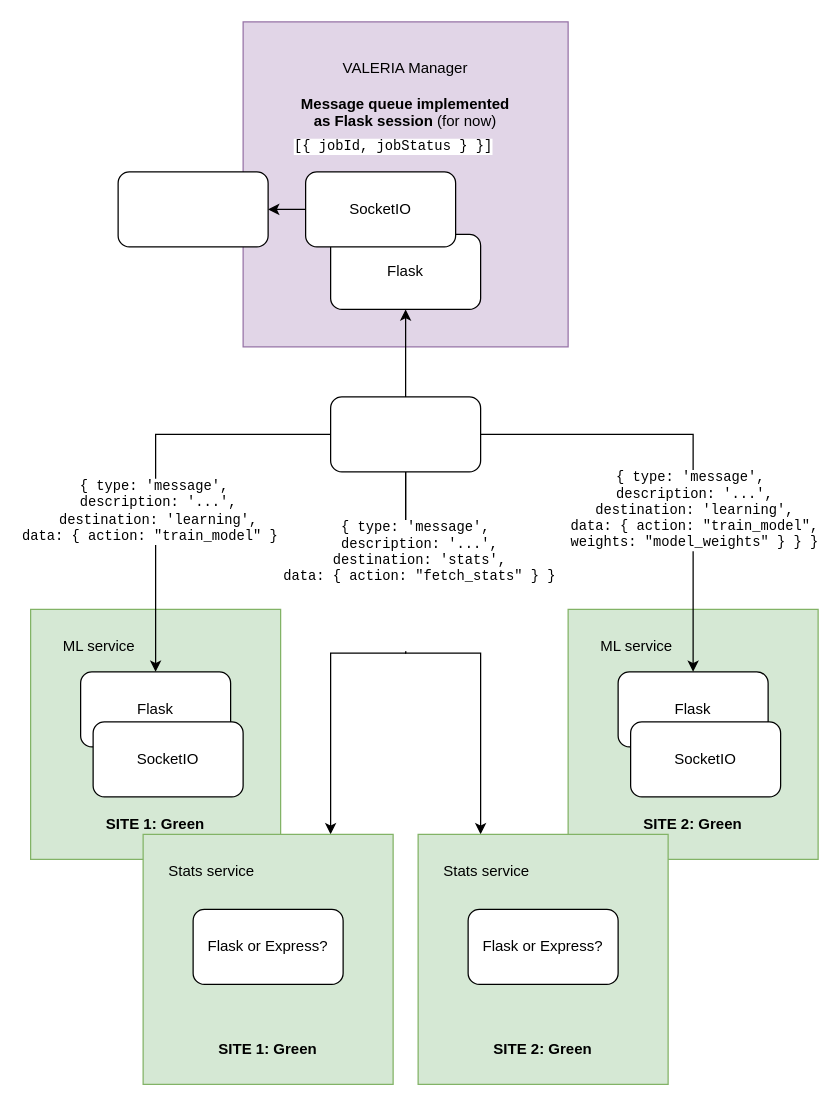
Image size: 840x1106. Some labels were removed from this diagram. The centre of each missing label's shape, as x and y in pixels:
Dashboard JS (SSR or client-side): pixel 405 434
Redis (eventually): pixel 192 209
